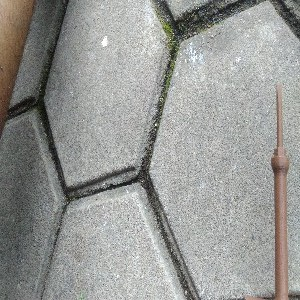obeng: (271, 84, 291, 300)
